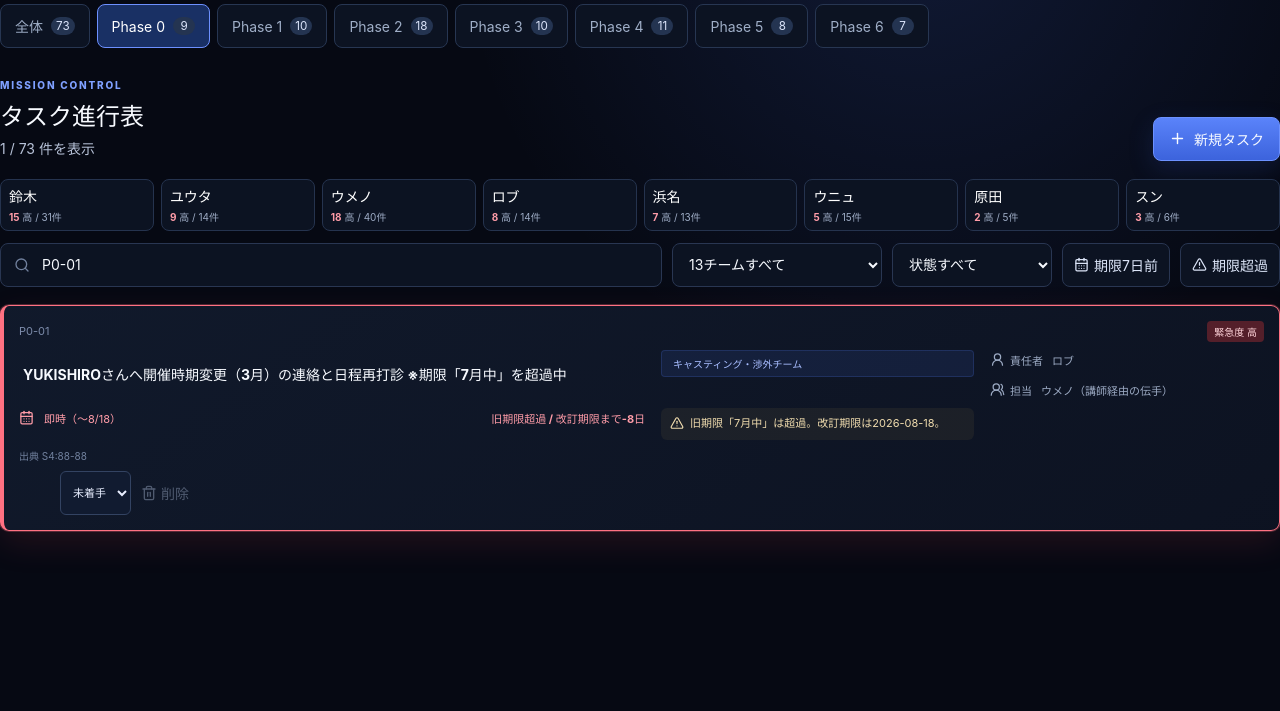
Test: TaskBoard UI › keeps the controlled inline draft and restores the save button focus when saving fails
Click the button with aria-label "タスク名を直接編集" at (332, 375), box x1=19 y1=362 x2=645 y2=388
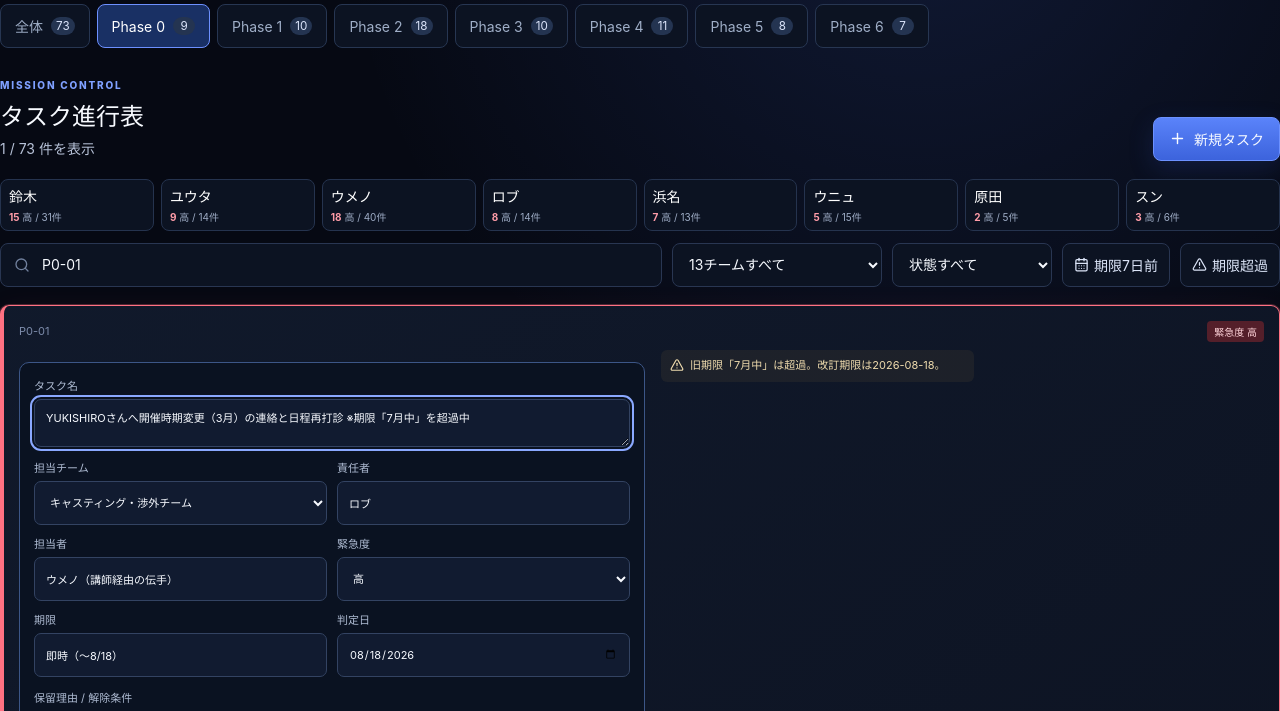
Replace the text in the text box labelled "タスク名" with "失敗後も保持するdraft" at (332, 423), box x1=34 y1=399 x2=630 y2=447
(page scrolled)
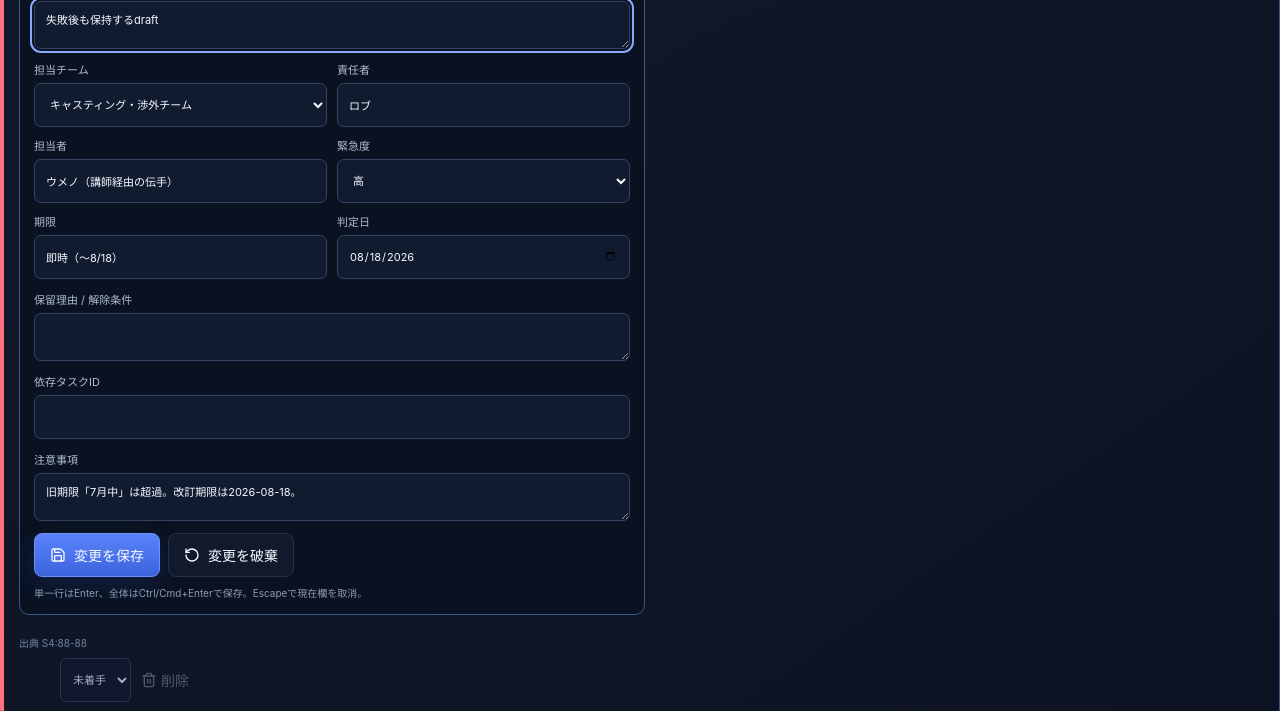
Click the button "変更を保存" at (97, 555), box x1=34 y1=533 x2=160 y2=577
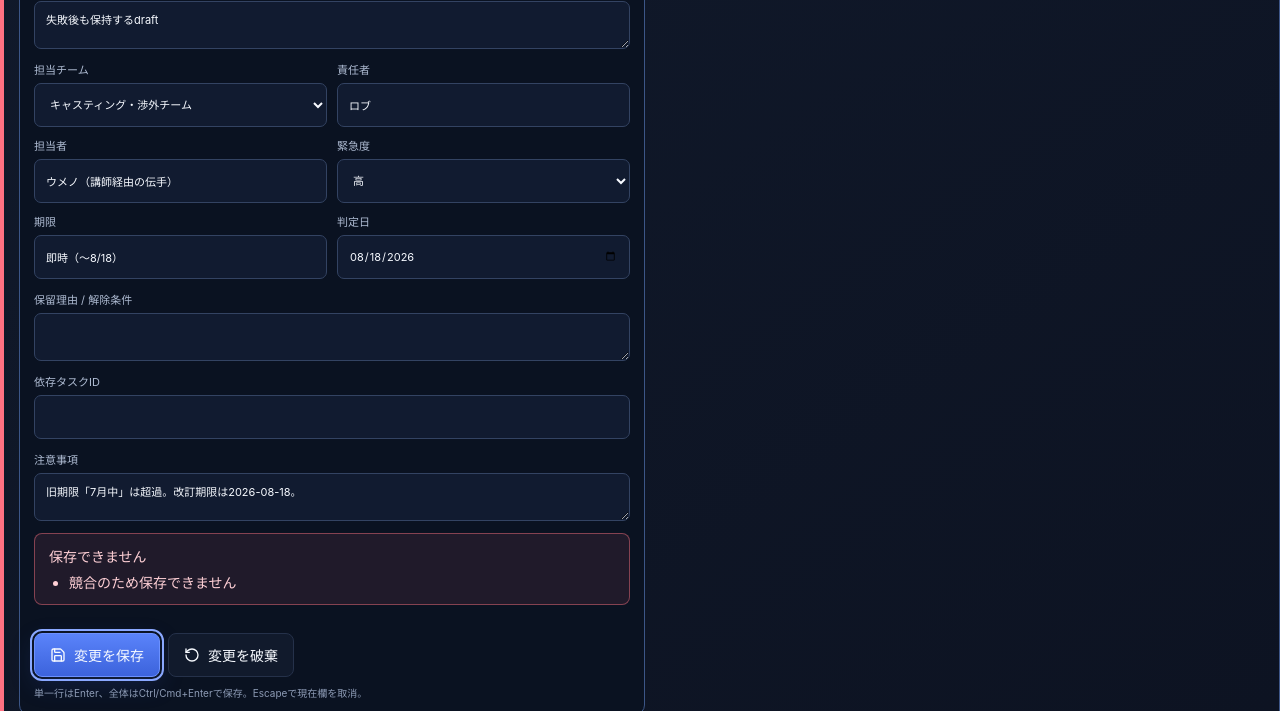
Expected: the message shows "競合のため保存できません", x1=69 y1=574 x2=237 y2=591
